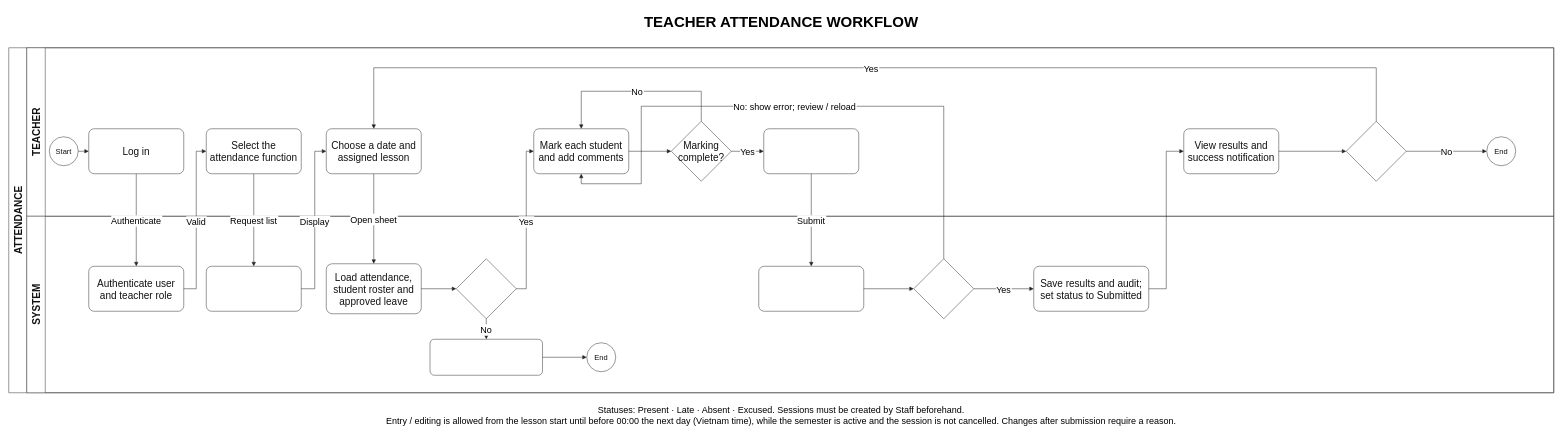
This 1563x439 diagram has some shape labels left out. Here are the shapes that lost their labels. From the top down, the centre of each, then its label:
At point 811,151: "Submit attendance / Save changes".
At point 1376,151: "Another lesson?".
At point 253,288: "Fetch the teacher's assigned lessons".
At point 486,288: "Editing allowed?".
At point 811,288: "Recheck conditions and attendance data".
At point 943,288: "Valid?".
At point 486,357: "Show read-only view / Explain restriction".
